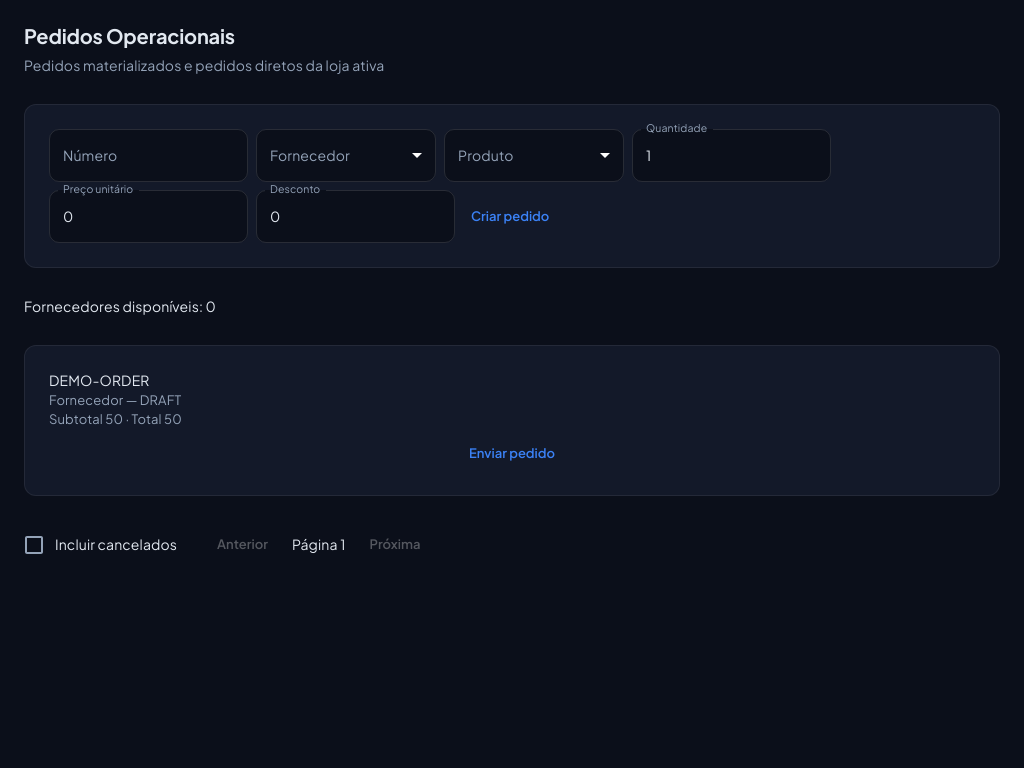
Test case: Pedidos Operacionais › oferece apenas transições devolvidas pela API e envia status e loja corretos
Click the button "Enviar pedido" at point(512, 454), box [49,436,975,471]
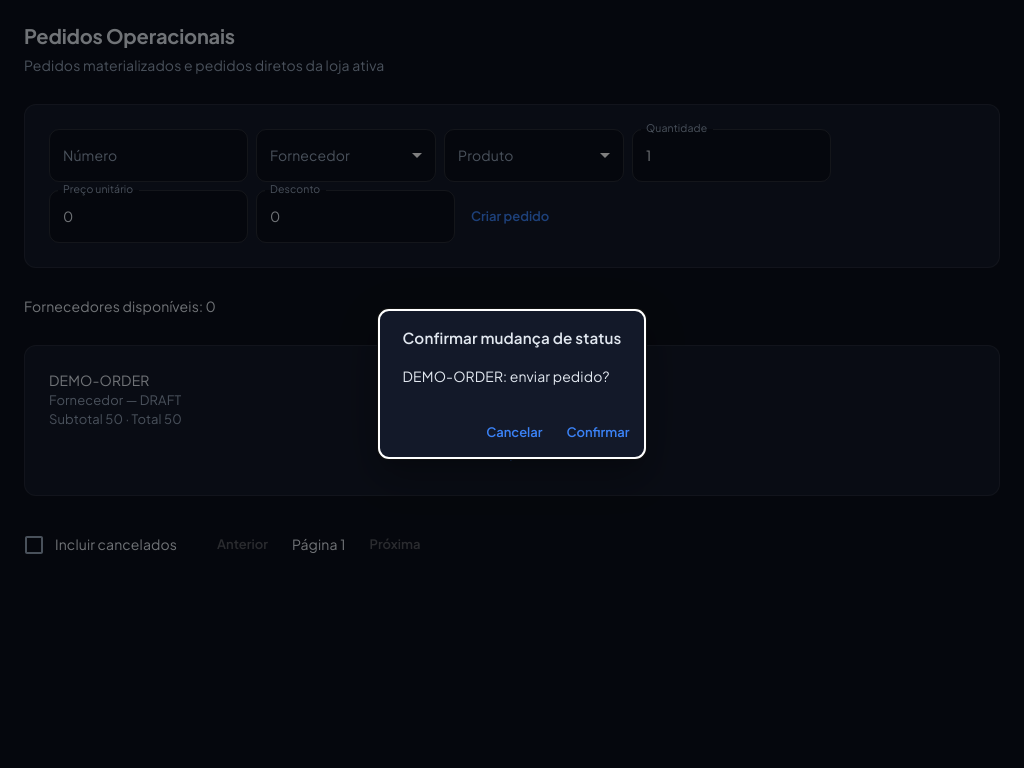
Click the button "Confirmar" at point(598, 433), box [558,415,637,450]
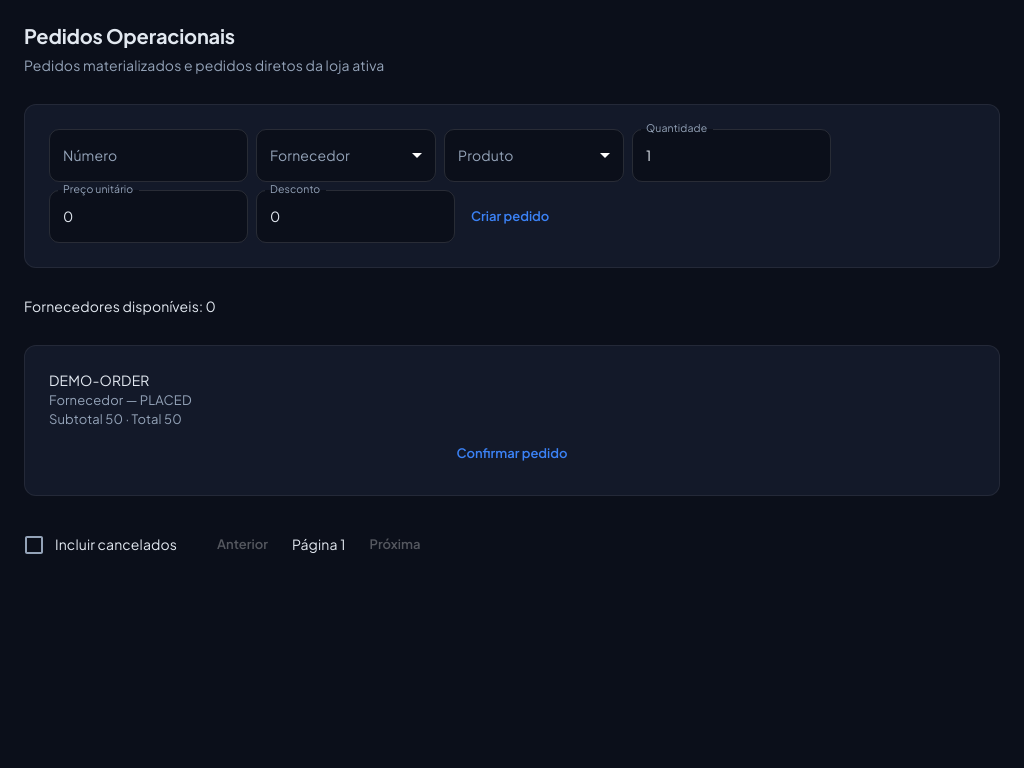
Click the button "Confirmar pedido" at point(512, 454), box [49,436,975,471]
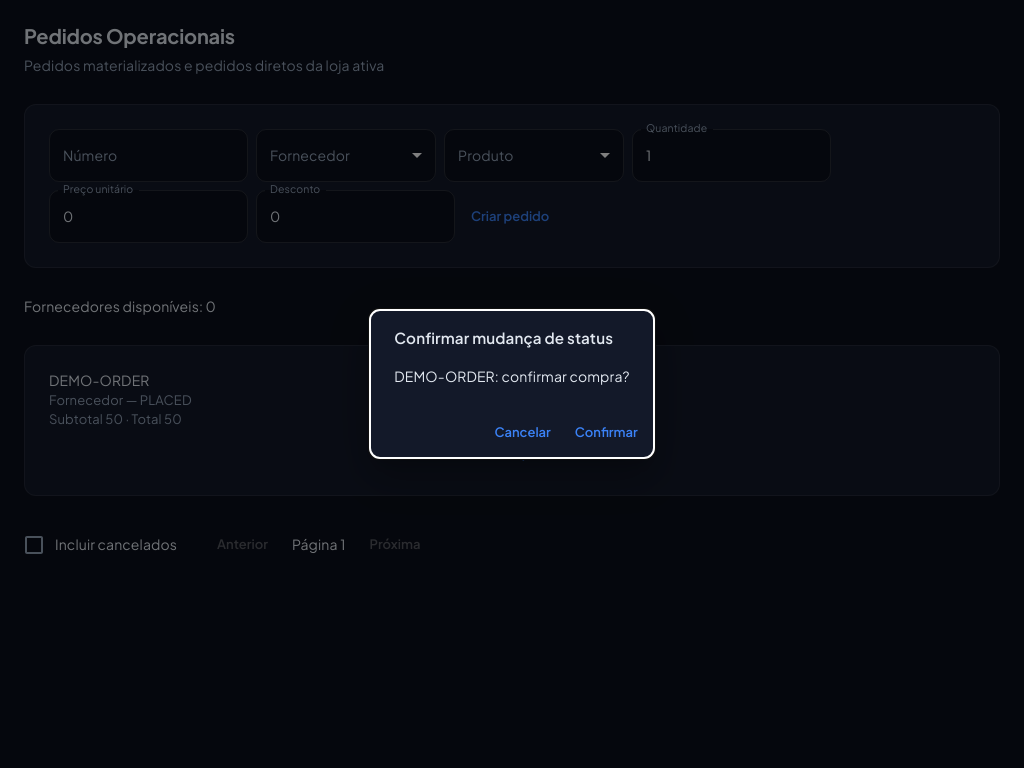
Click the button "Confirmar" at point(606, 433), box [567,415,646,450]
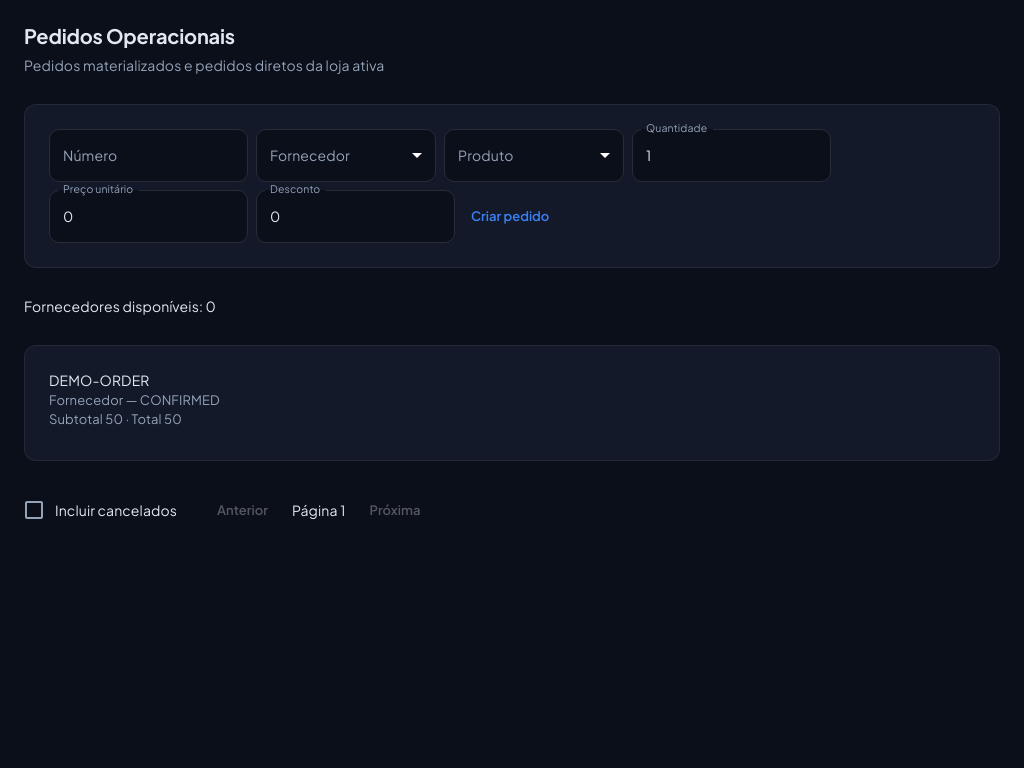
Now the button "Confirmar pedido" is gone
